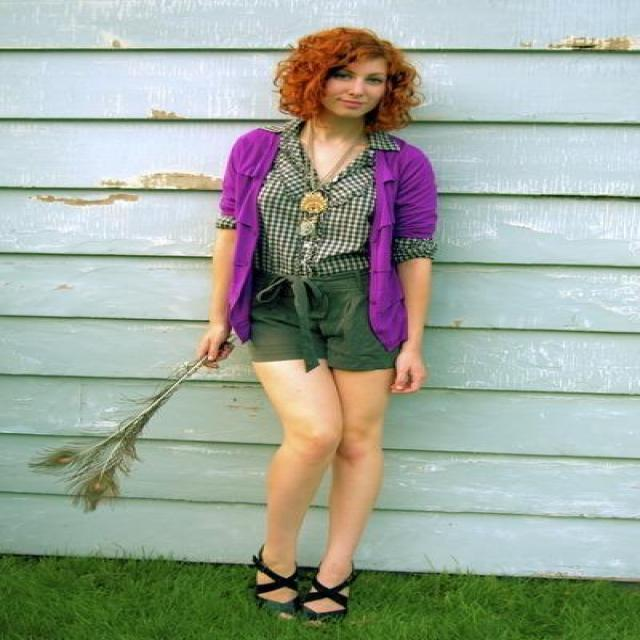jacket: (211, 118, 435, 356)
shirt: (247, 120, 436, 294)
shoe: (246, 550, 364, 618)
shorts: (246, 269, 402, 370)
